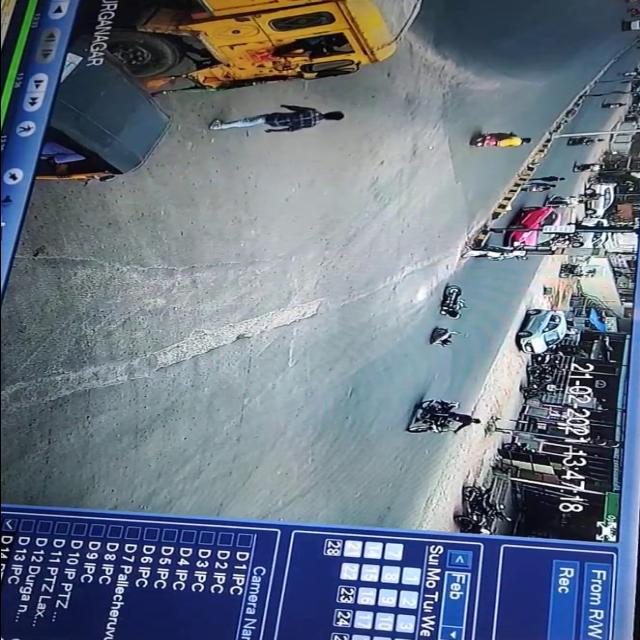accident: (416, 283, 474, 349)
